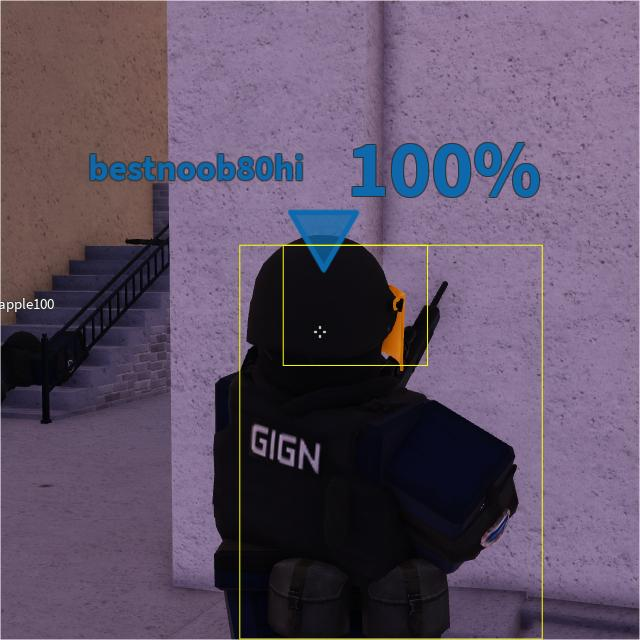Head: (248, 244, 402, 378)
Player: (186, 244, 516, 640)
